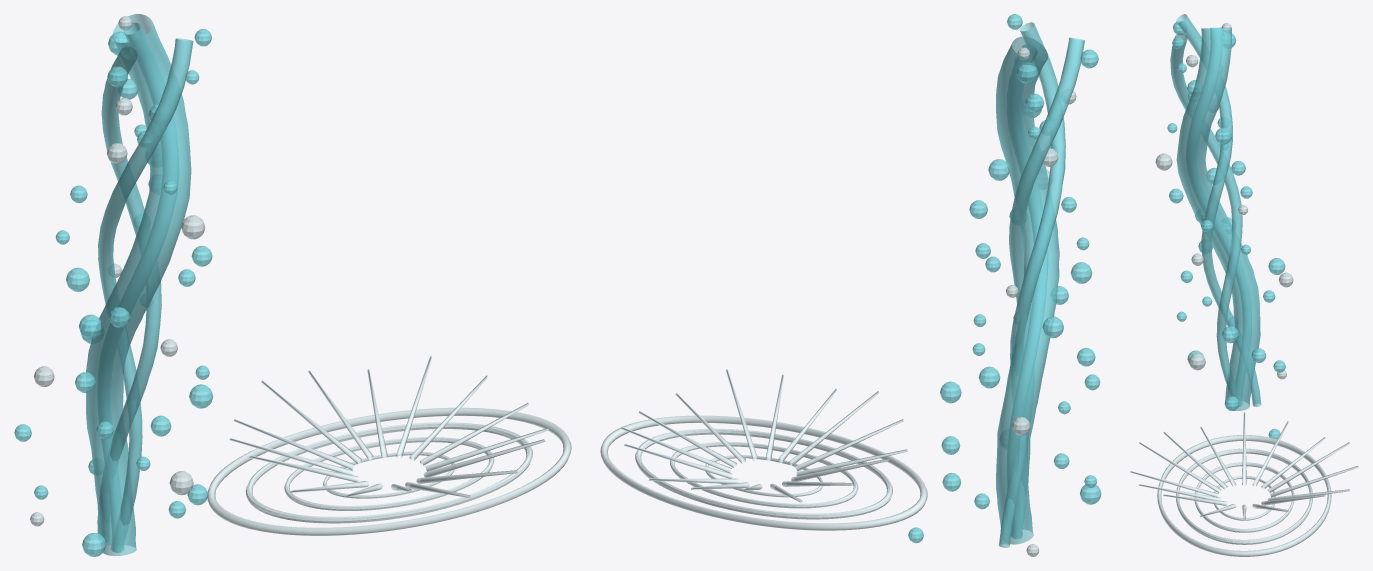
Rendered from Level3_WaterFountain_3D.fbx.
The picture shows the model from 3 angles, left to right: view 1: azimuth 30°, elevation 25°; view 2: azimuth 150°, elevation 25°; view 3: azimuth 270°, elevation 25°; orthographic projection. The views are drawn at different scales.
Visible parts, largest first — view 1: Water_Main_Arcing_Stream, Water_Turbulent_Side_Stream_00, Water_Impact_Ripple_Ring_03, Water_Turbulent_Side_Stream_02, Water_Turbulent_Side_Stream_01, Water_Impact_Ripple_Ring_02, Water_Impact_Ripple_Ring_01, Water_Impact_Ripple_Ring_00; view 2: Water_Main_Arcing_Stream, Water_Impact_Ripple_Ring_03, Water_Turbulent_Side_Stream_01, Water_Turbulent_Side_Stream_00, Water_Turbulent_Side_Stream_02, Water_Impact_Ripple_Ring_02, Water_Impact_Ripple_Ring_01, Water_Impact_Ripple_Ring_00; view 3: Water_Main_Arcing_Stream, Water_Turbulent_Side_Stream_02, Water_Turbulent_Side_Stream_01, Water_Turbulent_Side_Stream_00, Water_Impact_Ripple_Ring_03, Water_Impact_Ripple_Ring_02, Water_Impact_Ripple_Ring_01, Water_Radial_Splash_Spray_05, Water_Radial_Splash_Spray_04, Water_Radial_Splash_Spray_11, Water_Impact_Ripple_Ring_00, Water_Radial_Splash_Spray_12 (+3 smaller).
Boxes of the visible parts, <box> form: Water_Main_Arcing_Stream: <box>86,14,191,555</box>; Water_Turbulent_Side_Stream_00: <box>98,38,193,552</box>; Water_Impact_Ripple_Ring_03: <box>207,407,571,535</box>; Water_Turbulent_Side_Stream_02: <box>97,22,178,551</box>; Water_Turbulent_Side_Stream_01: <box>97,46,161,534</box>; Water_Impact_Ripple_Ring_02: <box>245,422,532,523</box>; Water_Impact_Ripple_Ring_01: <box>284,437,494,510</box>; Water_Impact_Ripple_Ring_00: <box>323,451,454,498</box>; Water_Main_Arcing_Stream: <box>996,36,1059,544</box>; Water_Impact_Ripple_Ring_03: <box>600,415,927,530</box>; Water_Turbulent_Side_Stream_01: <box>999,37,1084,547</box>; Water_Turbulent_Side_Stream_00: <box>1010,22,1065,538</box>; Water_Turbulent_Side_Stream_02: <box>1007,44,1048,538</box>; Water_Impact_Ripple_Ring_02: <box>635,428,892,519</box>; Water_Impact_Ripple_Ring_01: <box>670,442,858,508</box>; Water_Impact_Ripple_Ring_00: <box>705,455,822,497</box>; Water_Main_Arcing_Stream: <box>1176,27,1260,410</box>; Water_Turbulent_Side_Stream_02: <box>1186,27,1251,402</box>; Water_Turbulent_Side_Stream_01: <box>1176,14,1261,406</box>; Water_Turbulent_Side_Stream_00: <box>1170,33,1242,406</box>; Water_Impact_Ripple_Ring_03: <box>1157,435,1331,556</box>; Water_Impact_Ripple_Ring_02: <box>1176,448,1312,544</box>; Water_Impact_Ripple_Ring_01: <box>1194,462,1294,532</box>; Water_Radial_Splash_Spray_05: <box>1267,442,1349,492</box>; Water_Radial_Splash_Spray_04: <box>1270,466,1358,497</box>; Water_Radial_Splash_Spray_11: <box>1139,442,1221,492</box>; Water_Impact_Ripple_Ring_00: <box>1214,476,1275,520</box>; Water_Radial_Splash_Spray_12: <box>1130,471,1218,497</box>.
Bounding box in the file's own units: 2.99 × 2.94 × 1.56.
